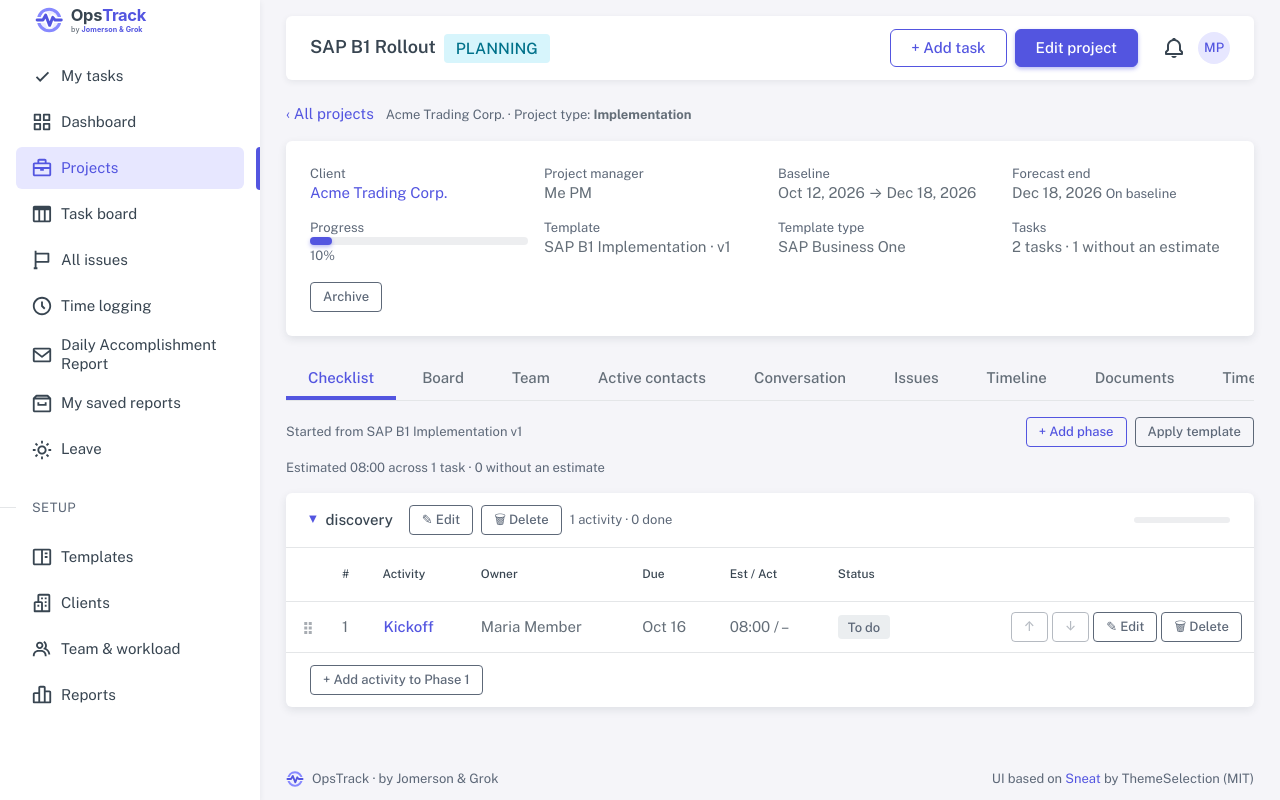
blank project Checklist › §J: confirm text counts new and merged phases; the toast reports both
The width and height of the screenshot is (1280, 800).
Click the button "Apply template" at (1194, 432), box x1=1134 y1=417 x2=1254 y2=447
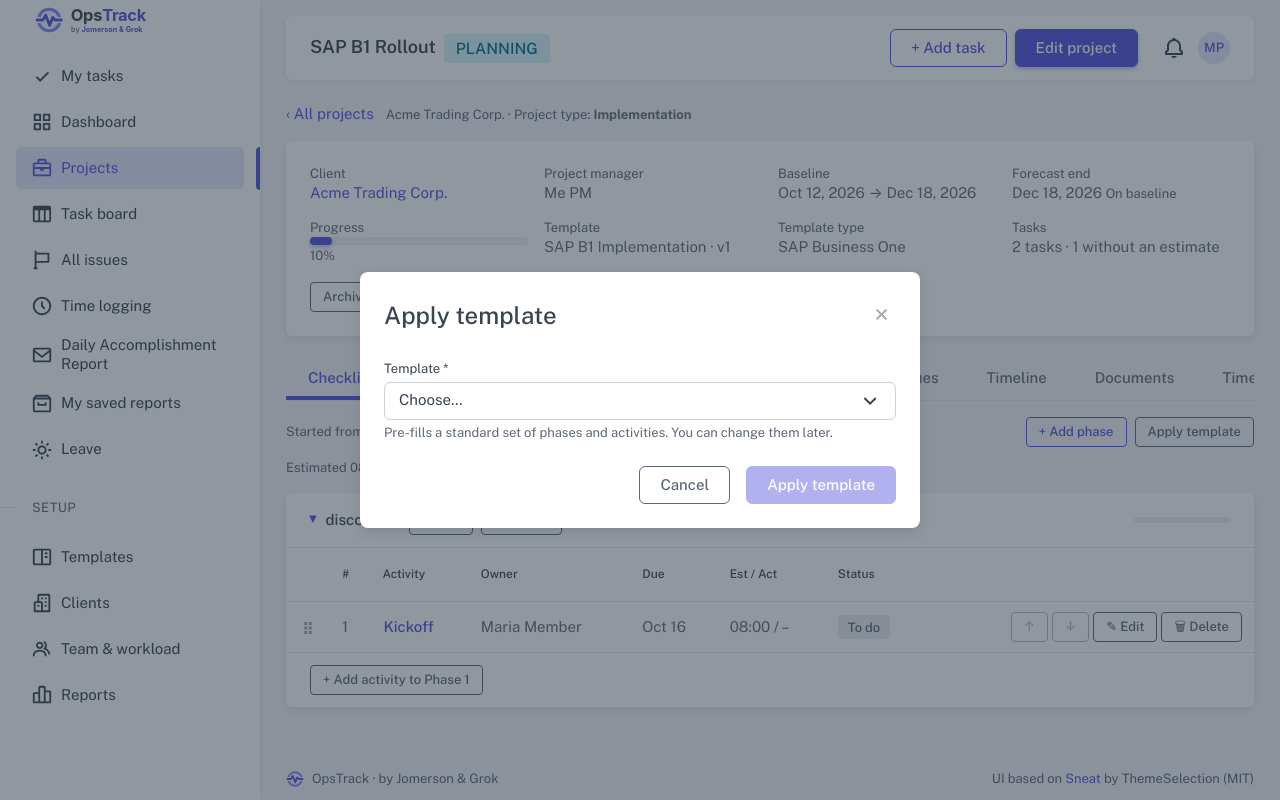
Select "ERP rollout · v3" in the dropdown labelled "Template *" at (640, 401), box x1=384 y1=382 x2=896 y2=420
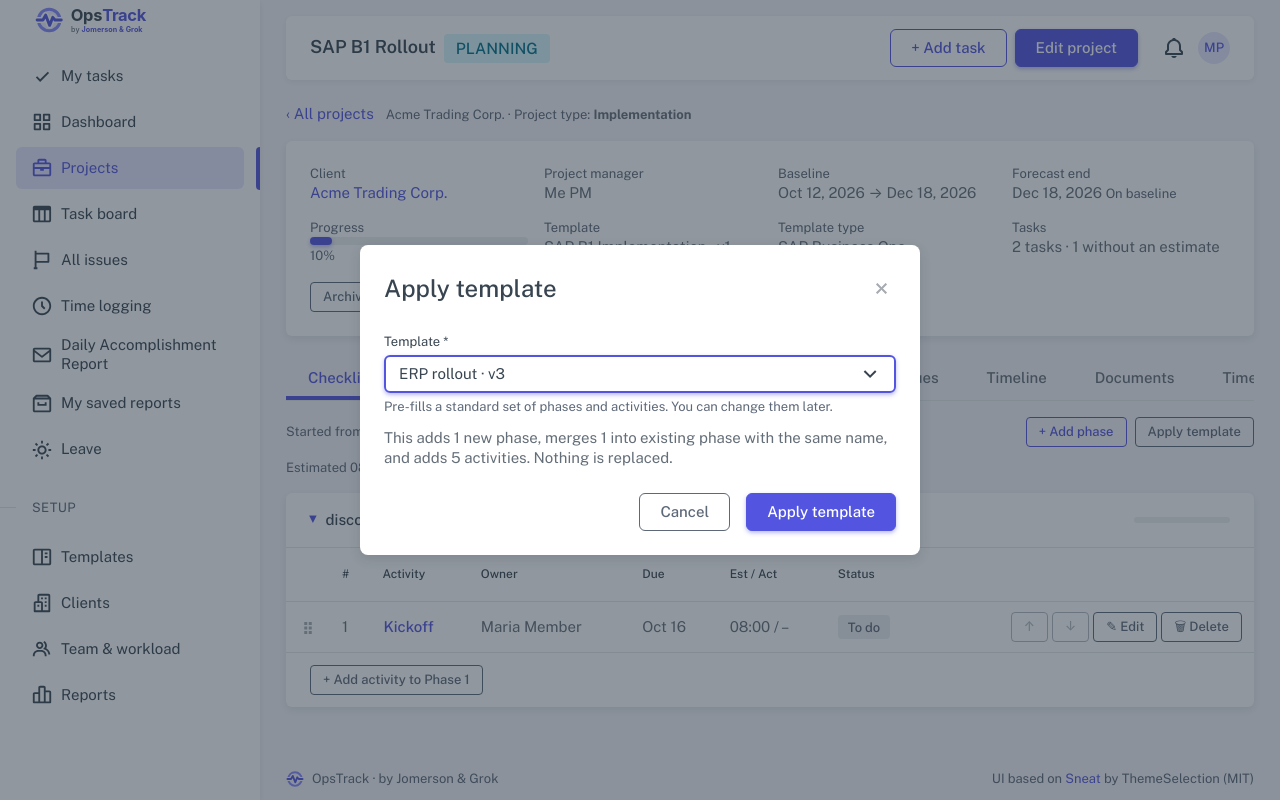
Result: the text with test id "apply-confirm" shows "This adds 1 new phase, merges 1 into existing phase with the same name, and adds 5 activities. Nothing is replaced." at x1=384 y1=429 x2=887 y2=466
Click the button "Apply template" at (821, 512), box x1=746 y1=493 x2=896 y2=531
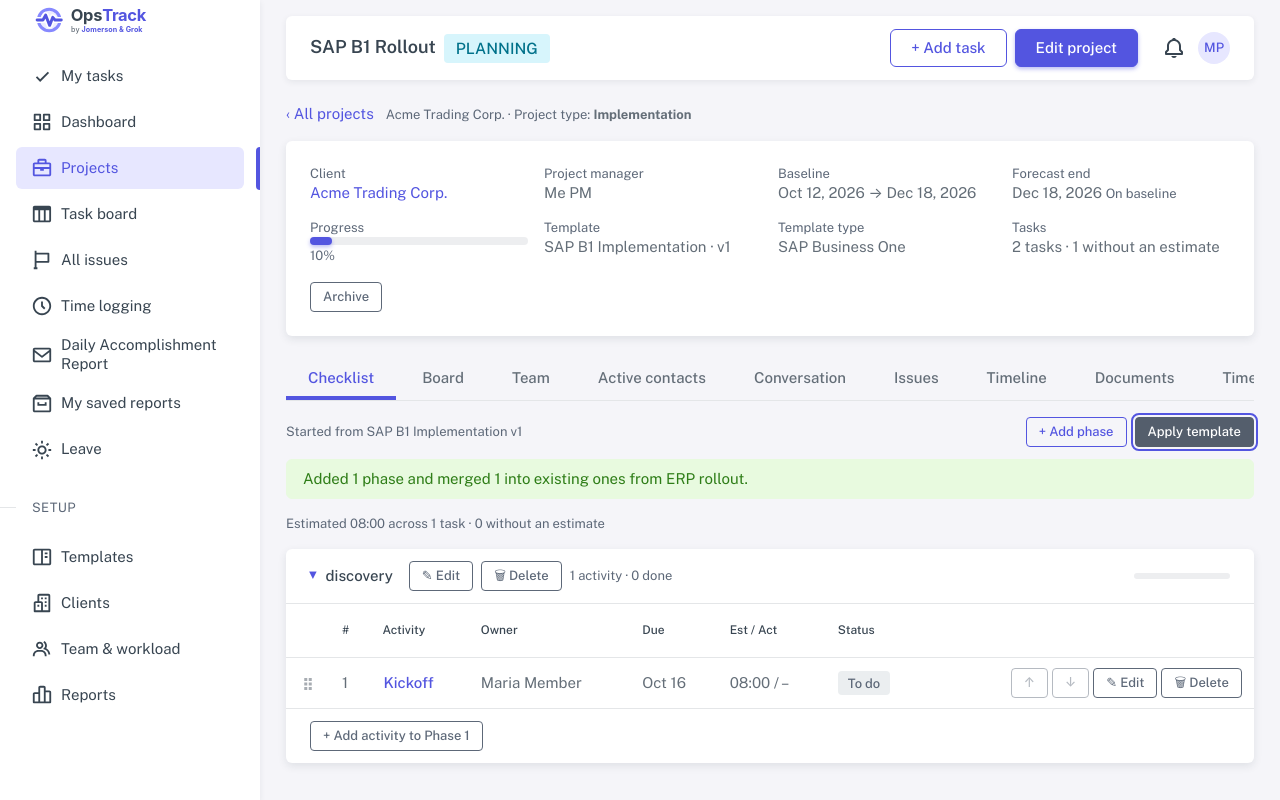
Result: the text "Added 1 phase and merged 1 into existing ones from ERP rollout." is shown at x1=286 y1=459 x2=1254 y2=499
